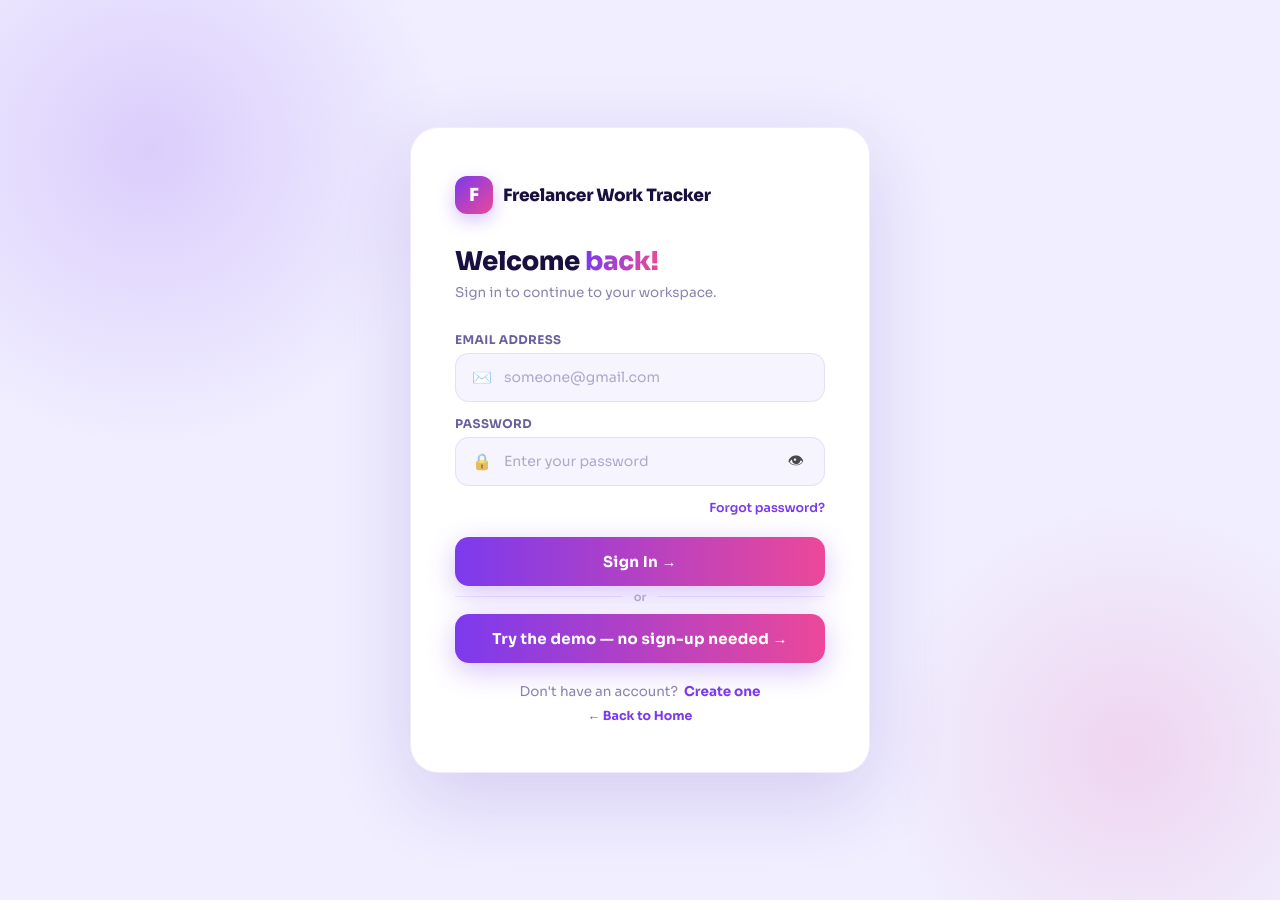
Test: freelancer demo button › demo unavailable: inline error, no token, stays on the login page
Step 1. Click the button "Try the demo — no sign-up needed →" → coordinates (640, 638), box [455,614,825,663]
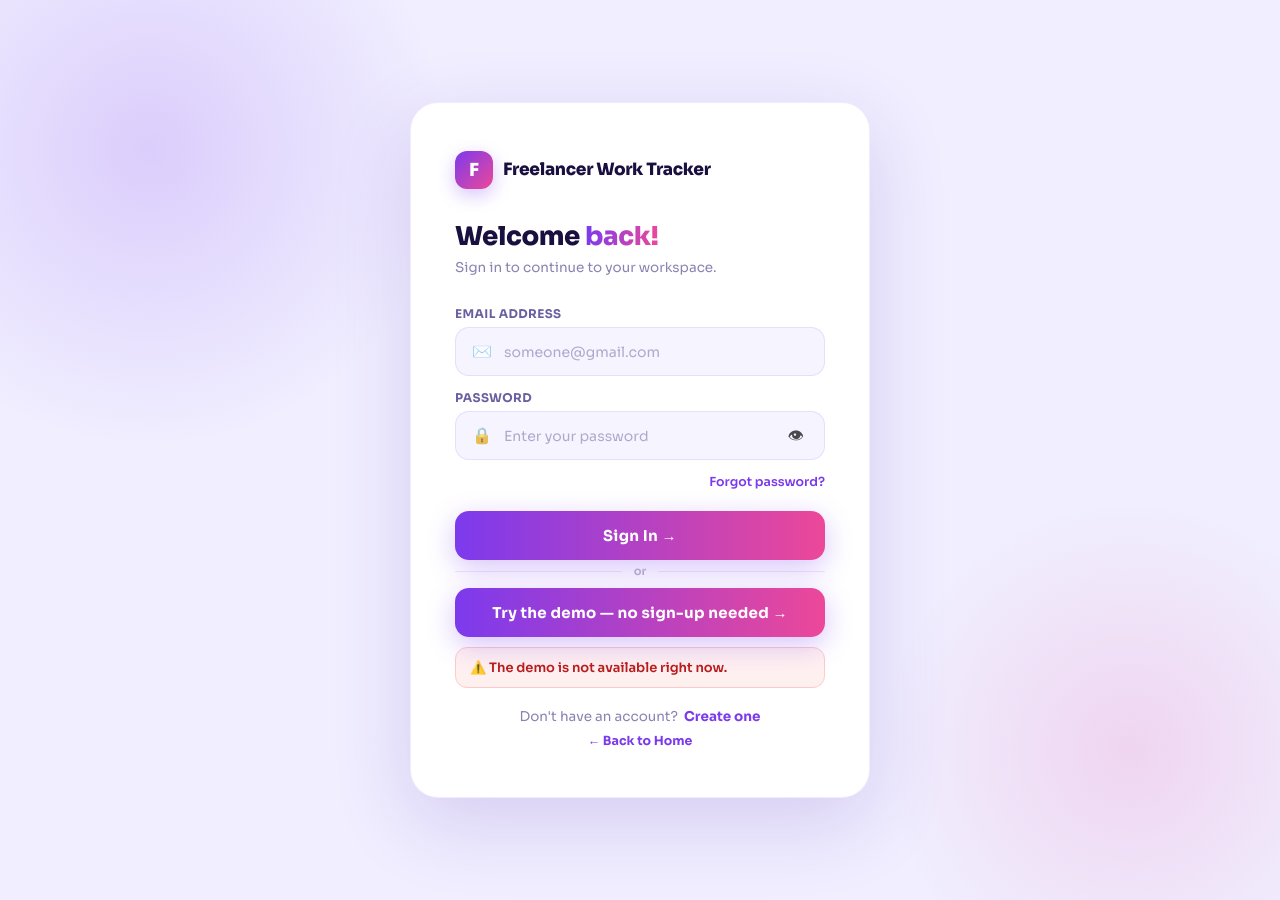
Expected: the message shows "demo is not available", [489,659,727,676]
